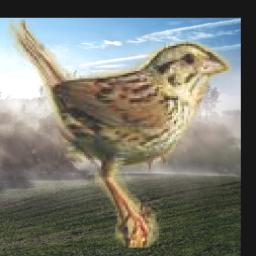Sparrow: (5, 20, 231, 248)
